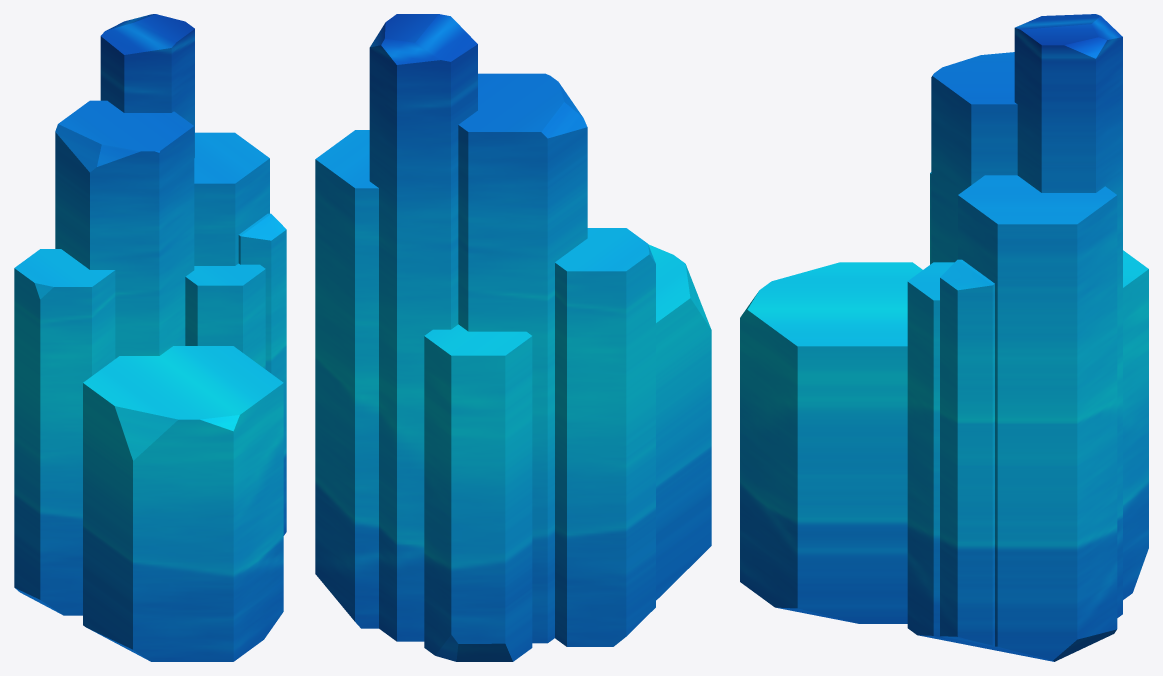
The model's file is Crystal11.obj.
3 renders of one model, left to right at view 1: azimuth 30°, elevation 25°; view 2: azimuth 150°, elevation 25°; view 3: azimuth 270°, elevation 25°, orthographic. The views are drawn at different scales.
Visible parts, largest first — view 1: obj1; view 2: obj1; view 3: obj1.
Part boxes in pixels (bbox=[...]): obj1: bbox=[14, 14, 286, 661]; obj1: bbox=[315, 14, 711, 661]; obj1: bbox=[740, 14, 1148, 661].
Size of the model in its own units: 3.14 by 6.26 by 3.94.
Materials: 1 (1 with a texture image).
